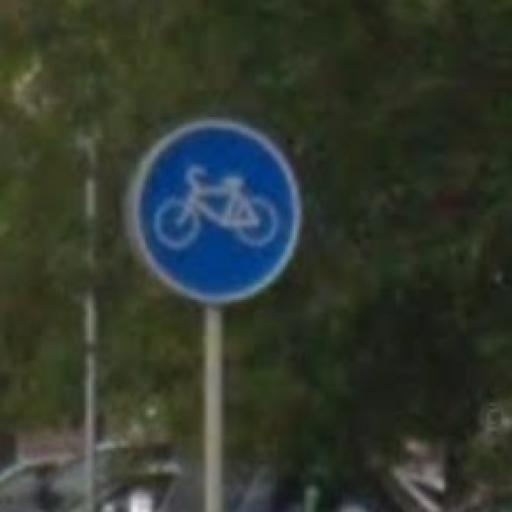traffic_sign: (130, 117, 305, 307)
